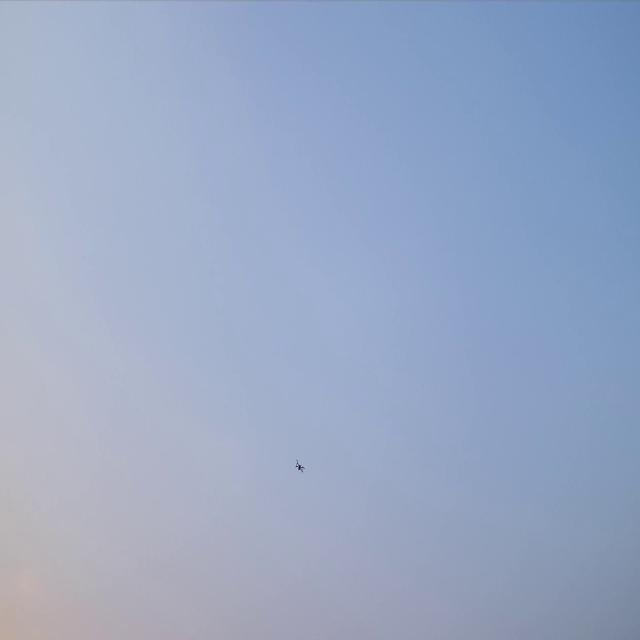UAV: (294, 457, 306, 475)
